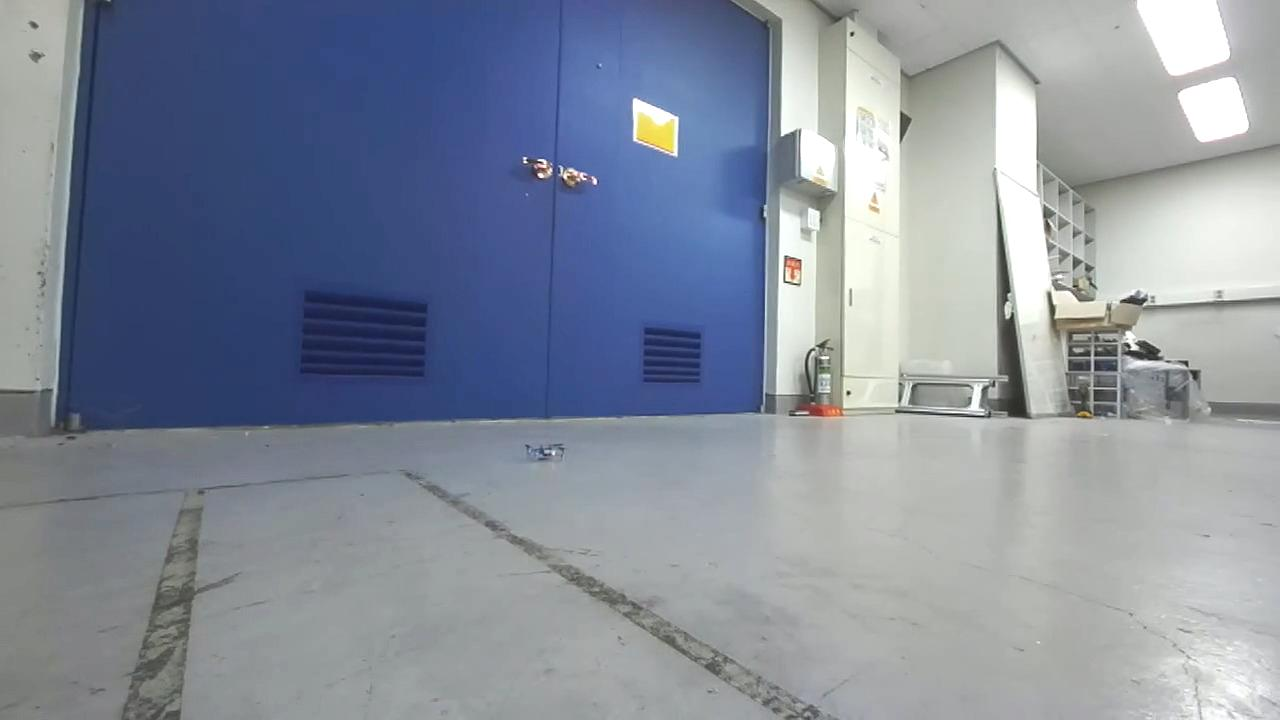crazyflie: (519, 436, 574, 466)
